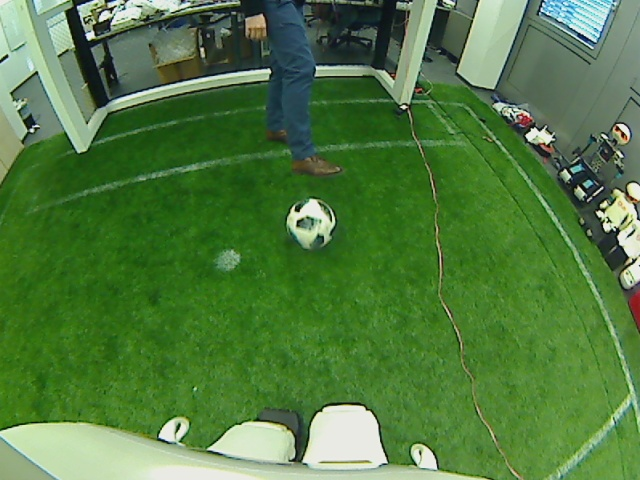ball: (284, 194, 337, 249)
